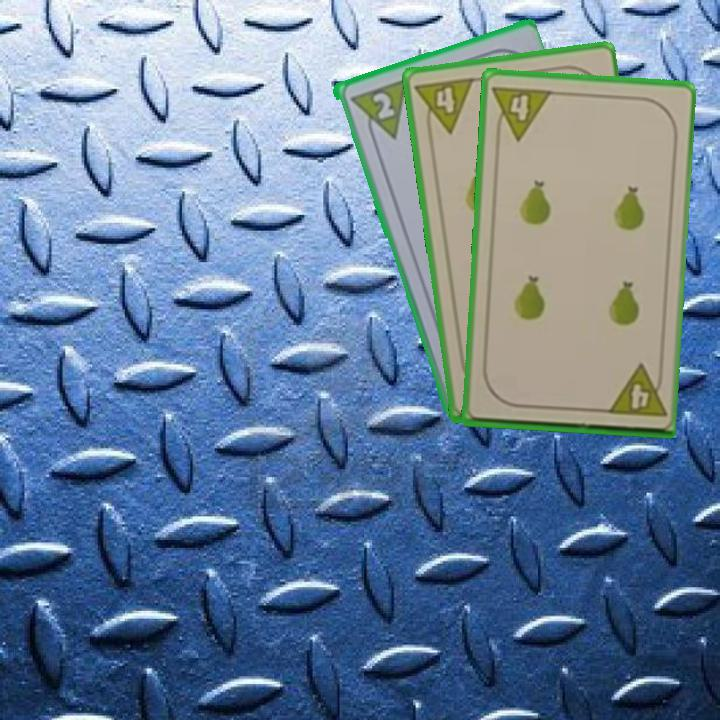2p: (368, 88, 397, 122)
4p: (412, 73, 477, 139), (489, 82, 554, 143), (602, 361, 668, 420)
